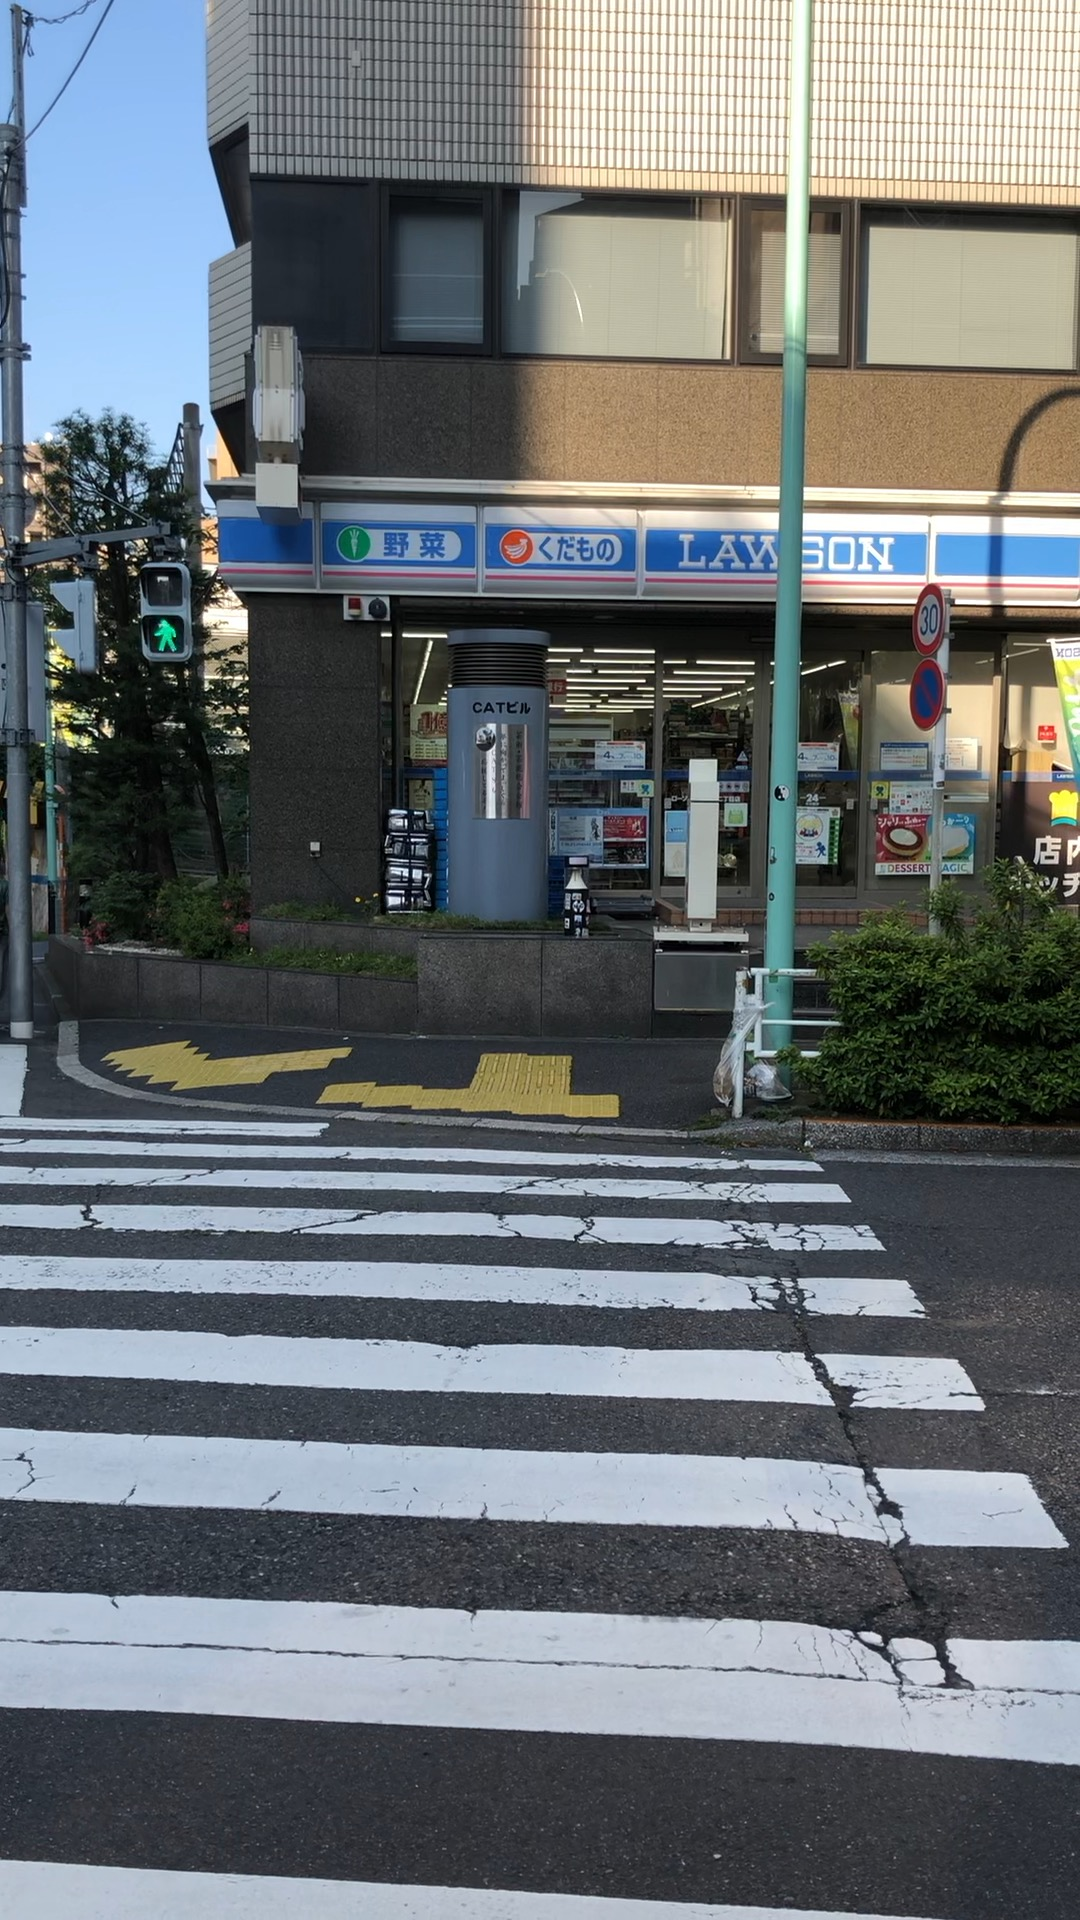green: (137, 562, 194, 661)
